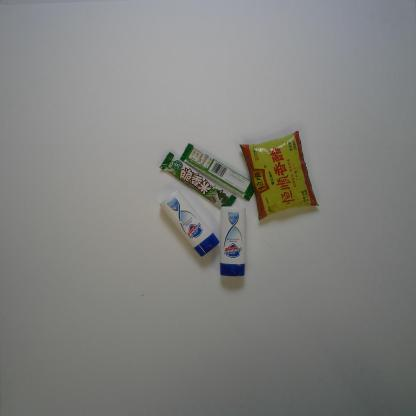Chocolate: (158, 152, 237, 209), (180, 143, 255, 202)
Personal Hygiene: (158, 188, 220, 258), (219, 205, 247, 278)
Seasoner: (238, 129, 320, 221)
